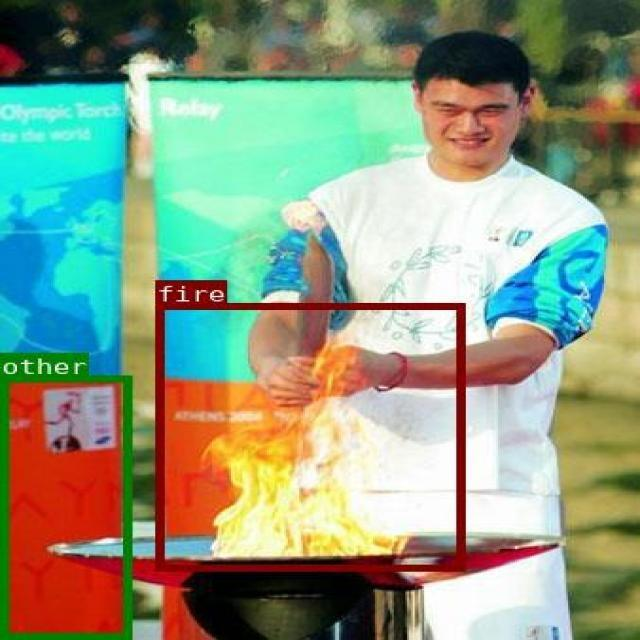fire: (155, 302, 463, 570)
